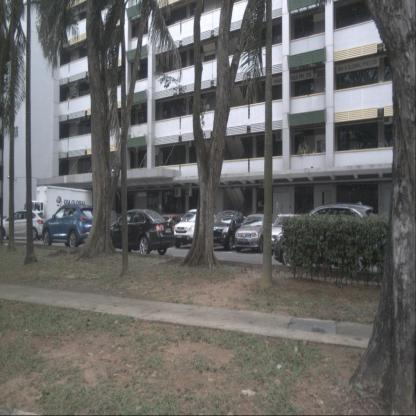vehicle-car: (272, 204, 380, 270), (102, 207, 174, 254), (43, 204, 95, 249), (174, 207, 218, 249), (235, 212, 276, 252), (0, 209, 47, 243), (207, 210, 247, 249), (268, 212, 301, 255)
vehicle-truck: (24, 185, 93, 240)
